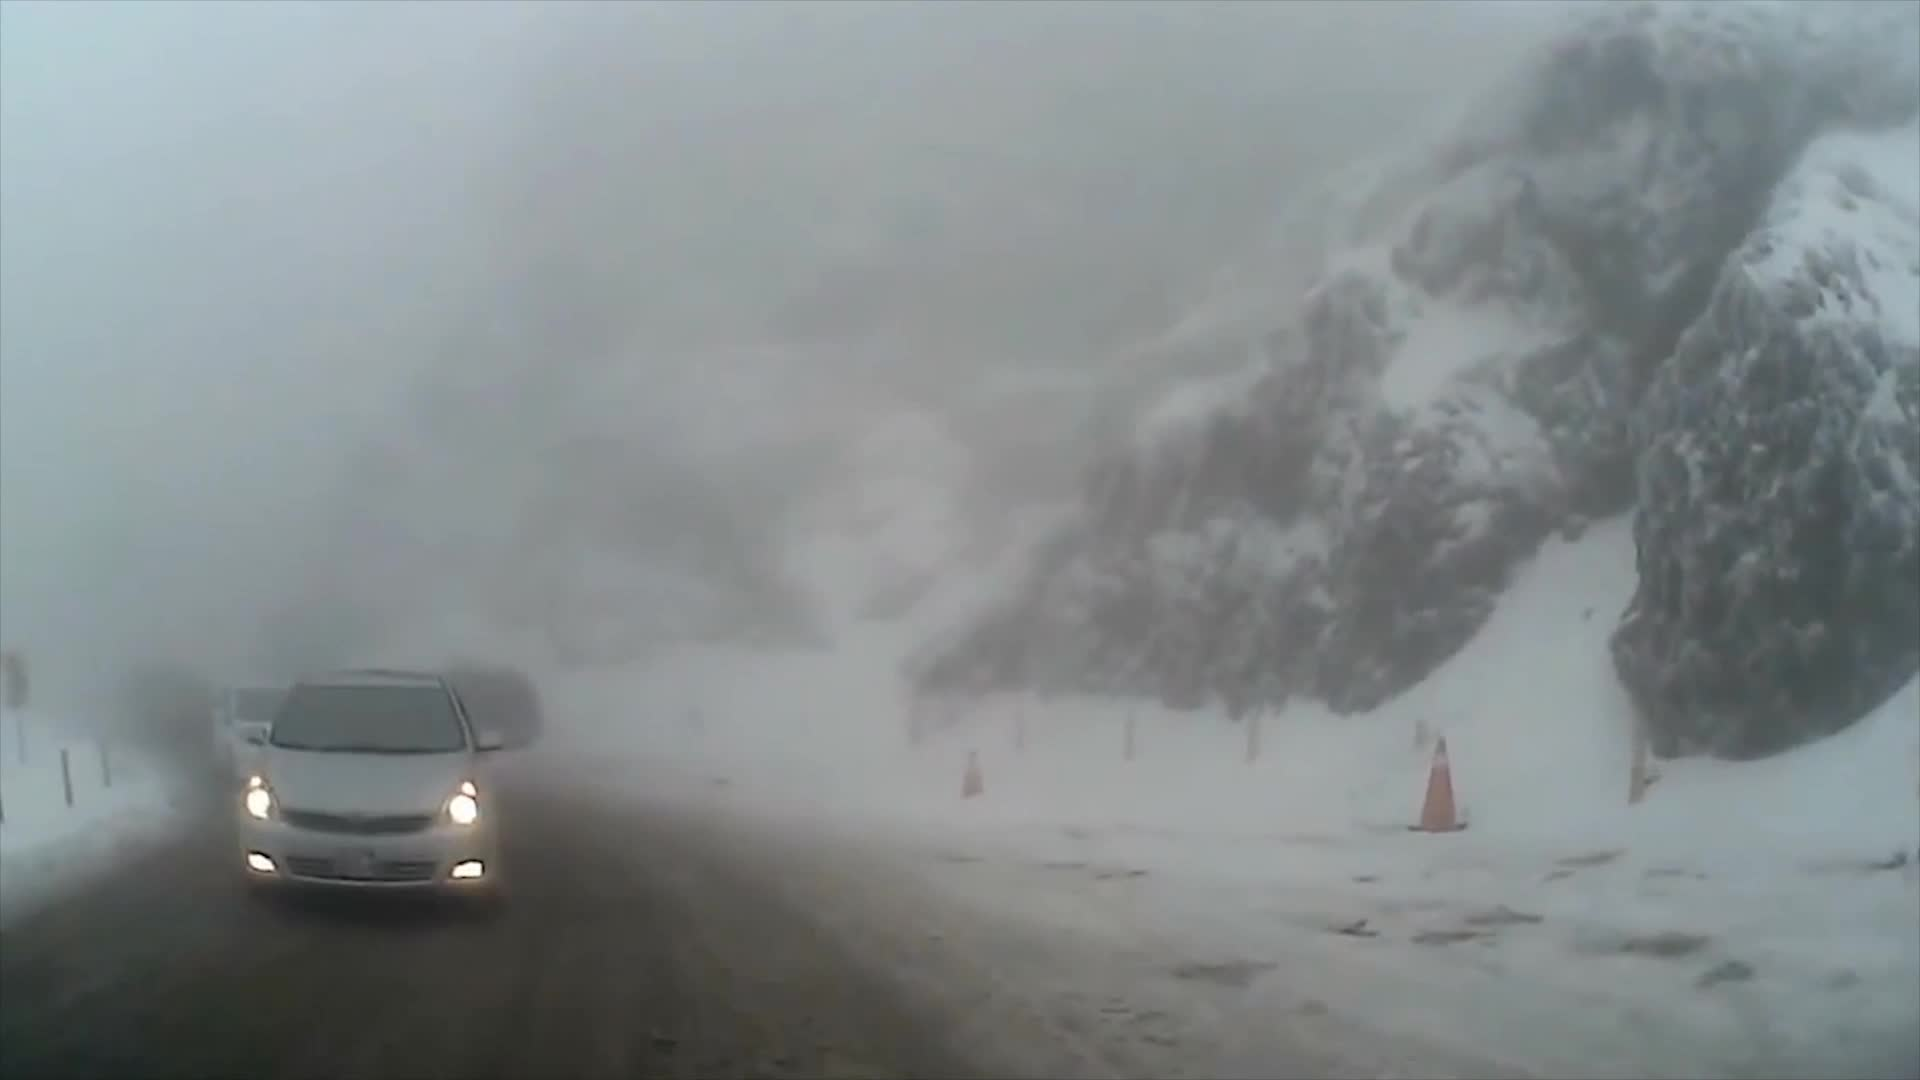vehicle: (227, 665, 506, 913), (196, 678, 342, 790)
